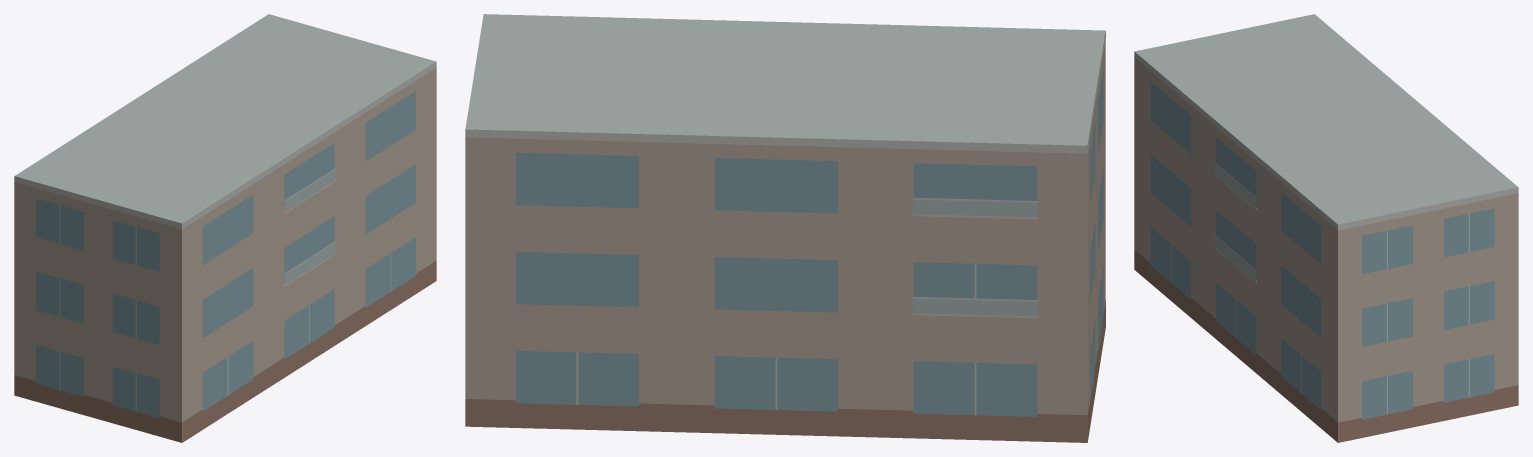
Rendered from survey-upis-32702128.glb.
3 views of the same model, side by side, from view 1: azimuth 30°, elevation 25°; view 2: azimuth 150°, elevation 25°; view 3: azimuth 270°, elevation 25° (orthographic). The views are drawn at different scales.
Parts seen in each view (by area): view 1: survey-upis-32702128.tmp; view 2: survey-upis-32702128.tmp; view 3: survey-upis-32702128.tmp.
Boxes of the visible parts, bbox=[...] form: survey-upis-32702128.tmp: bbox=[14, 14, 436, 442]; survey-upis-32702128.tmp: bbox=[465, 14, 1105, 442]; survey-upis-32702128.tmp: bbox=[1134, 14, 1518, 442].
Bounding box in the file's own units: 18.96 × 9.15 × 14.61.
